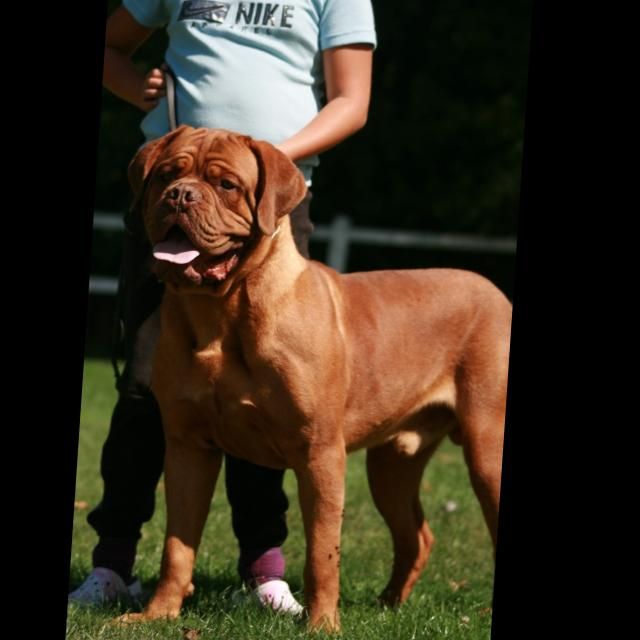dogue_de_bordeaux: (104, 124, 527, 638)
person: (76, 1, 380, 621)
